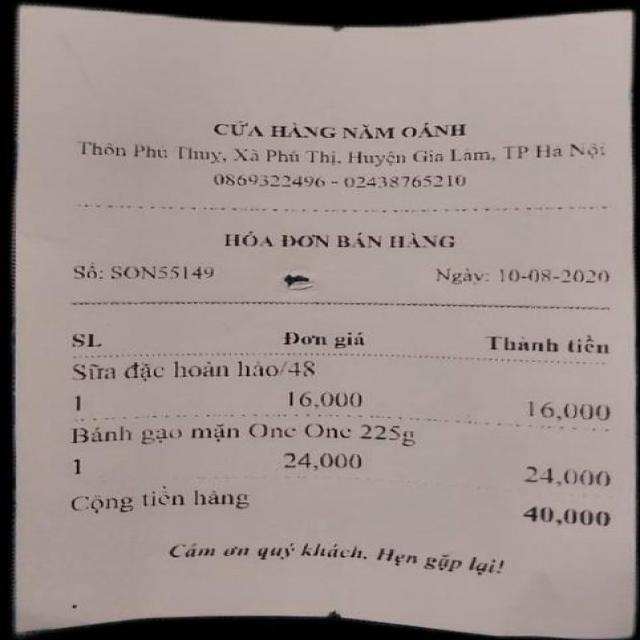Date: (496, 260, 620, 291)
Store_Name: (200, 110, 485, 141)
amount_number: (513, 493, 626, 534)
label_total: (55, 486, 267, 516)
